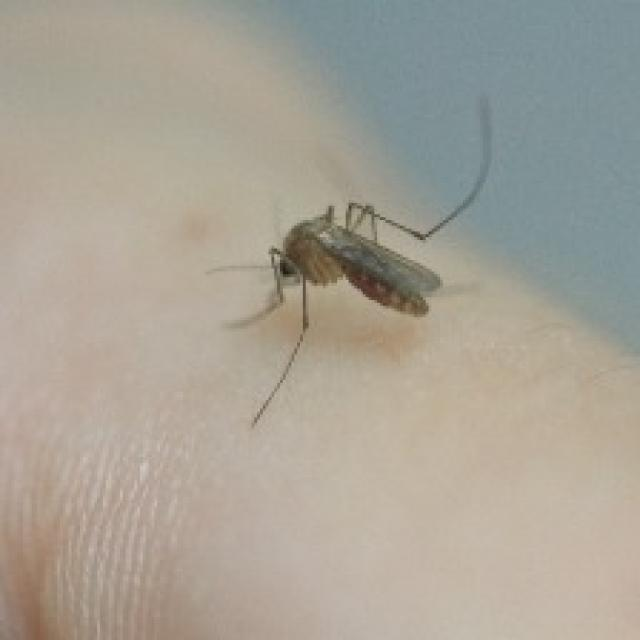culex: (203, 91, 491, 426)
